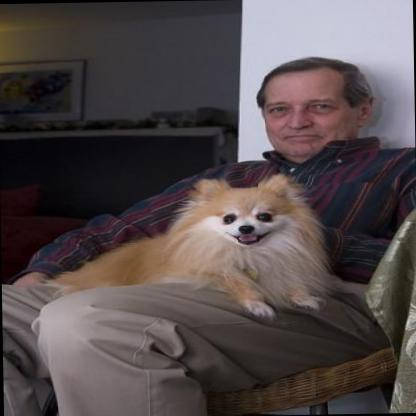Pomeranian: (41, 172, 327, 322)
